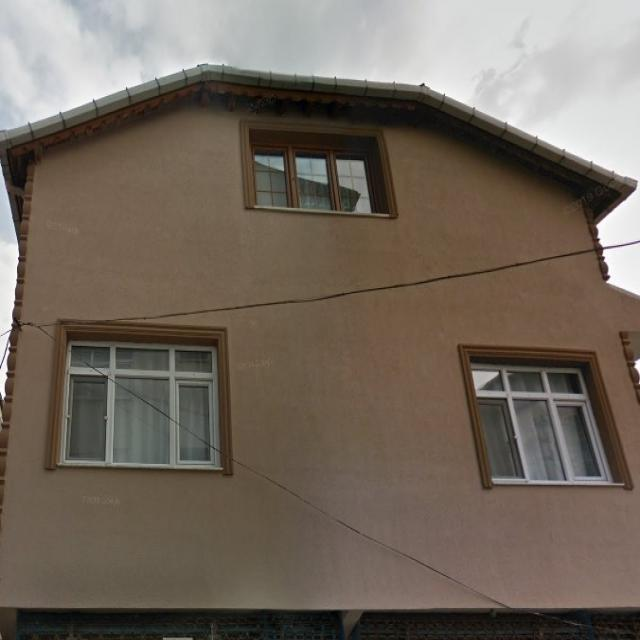Building: (0, 65, 640, 640)
